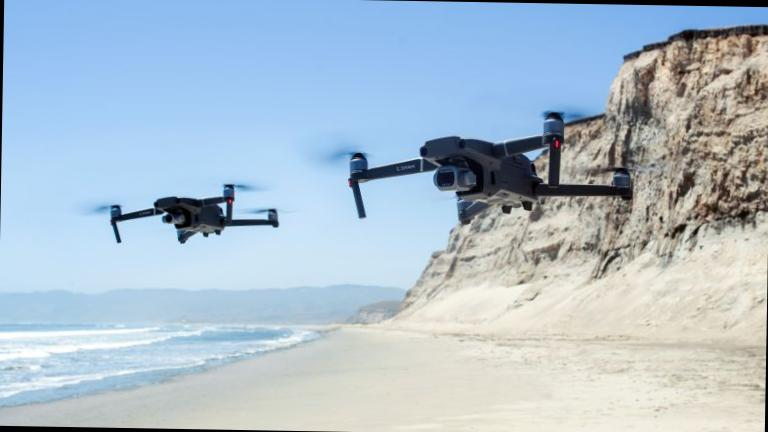drone: (338, 94, 642, 247), (101, 170, 290, 261)
